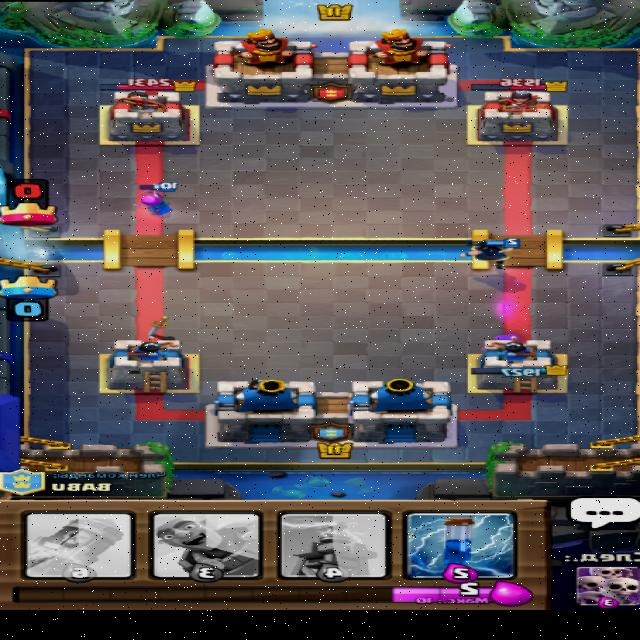Player-Archer: (137, 181, 180, 216)
Player-IceWizard: (460, 237, 523, 270)
